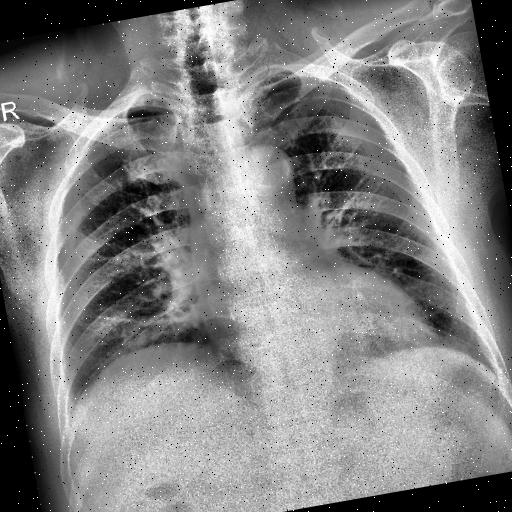0- Aortic enlargement: (226, 134, 308, 236), (228, 141, 294, 200), (236, 141, 296, 200)
3- Cardiomegaly: (194, 270, 434, 394), (197, 260, 435, 382)
